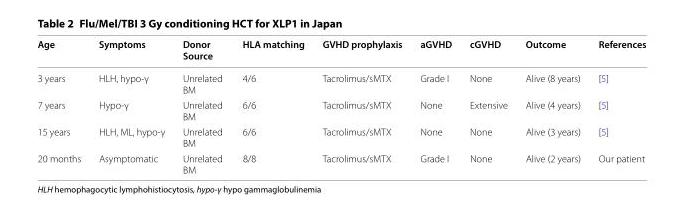table: (36, 37, 645, 175)
table column: (312, 37, 410, 175), (89, 37, 172, 175), (231, 37, 312, 175), (515, 37, 588, 175), (172, 37, 231, 175), (588, 37, 645, 175), (460, 37, 515, 175), (36, 37, 89, 175), (410, 37, 460, 175)
table column header: (36, 37, 645, 66)
table row: (36, 66, 645, 96), (36, 37, 645, 66), (36, 96, 645, 123), (36, 123, 645, 150), (36, 150, 645, 175)
